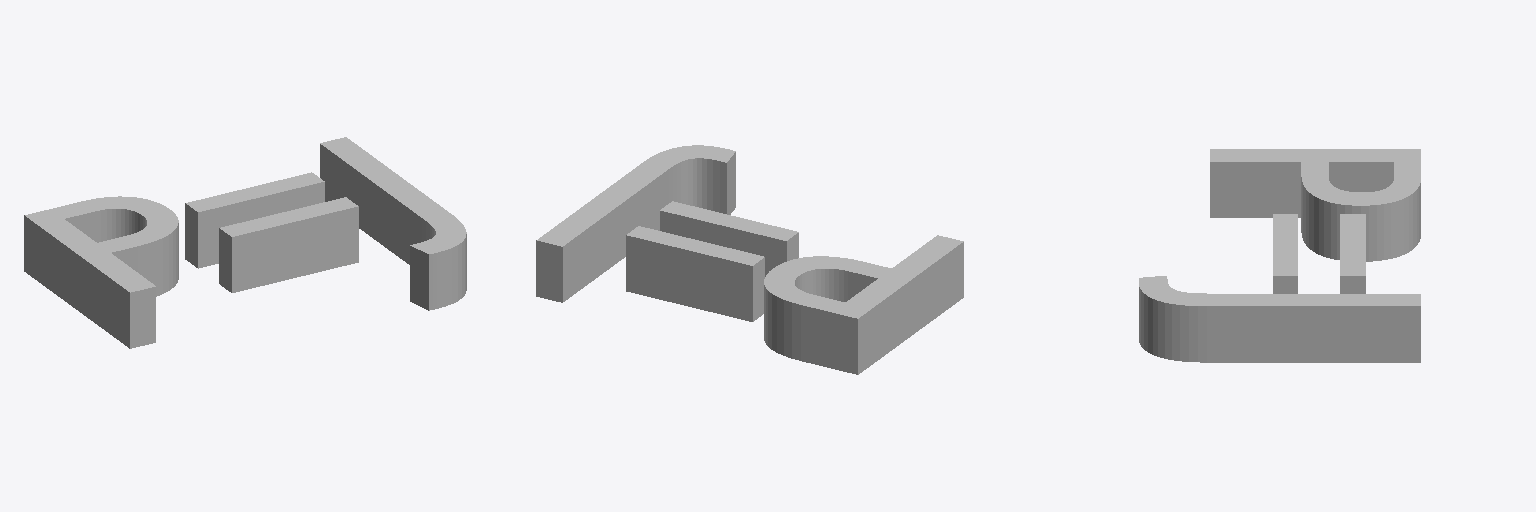
Rendered from Rebus_2_Text_3.obj.
3 views of the same model, side by side, from view 1: azimuth 30°, elevation 25°; view 2: azimuth 150°, elevation 25°; view 3: azimuth 270°, elevation 25° (orthographic).
Parts seen in each view (by area): view 1: Text.003; view 2: Text.003; view 3: Text.003.
Boxes of the visible parts, <box> form: Text.003: <box>24,137,466,348</box>; Text.003: <box>536,145,963,374</box>; Text.003: <box>1139,149,1420,362</box>.
Bounding box in the file's own units: 1.2 × 0.2 × 0.912.